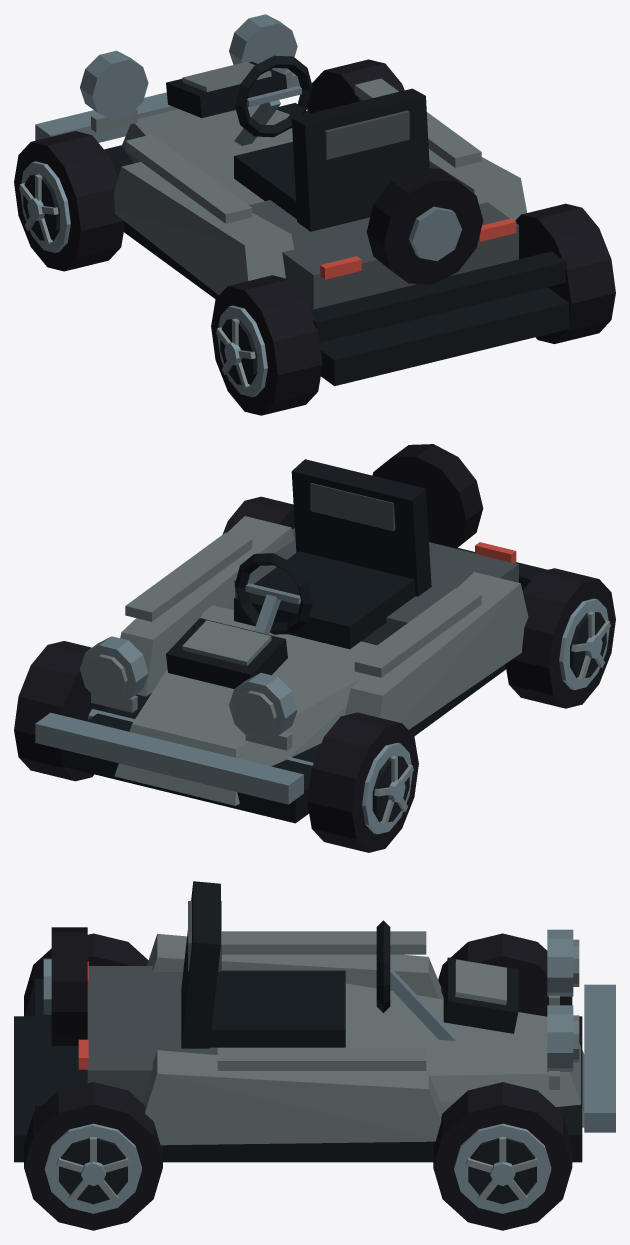
The model's file is kart.glb.
The picture shows the model from 3 angles, top to bottom: view 1: azimuth 30°, elevation 25°; view 2: azimuth 150°, elevation 25°; view 3: azimuth 270°, elevation 25°; orthographic projection. The views are drawn at different scales.
Parts seen in each view (by area): view 1: chassis, wheel-rear-left, wheel-front-left, wheel-rear-right, wheel-front-right; view 2: chassis, wheel-front-left, wheel-rear-left, wheel-front-right, wheel-rear-right; view 3: chassis, wheel-front-right, wheel-rear-right, wheel-front-left, wheel-rear-left.
Part boxes in pixels (<box>): chassis: <box>35,14,568,386</box>; wheel-rear-left: <box>211,275,322,415</box>; wheel-front-left: <box>14,131,125,271</box>; wheel-rear-right: <box>515,203,615,343</box>; wheel-front-right: <box>307,59,404,113</box>; chassis: <box>35,444,547,823</box>; wheel-front-left: <box>307,712,418,852</box>; wheel-rear-left: <box>505,568,615,708</box>; wheel-front-right: <box>14,641,105,781</box>; wheel-rear-right: <box>222,496,294,534</box>; chassis: <box>14,881,615,1162</box>; wheel-front-right: <box>433,1082,572,1230</box>; wheel-rear-right: <box>24,1082,162,1230</box>; wheel-front-left: <box>438,933,572,1016</box>; wheel-rear-left: <box>24,933,148,1016</box>.
Bounding box in the file's own units: 2.21 × 1.3 × 3.03.
